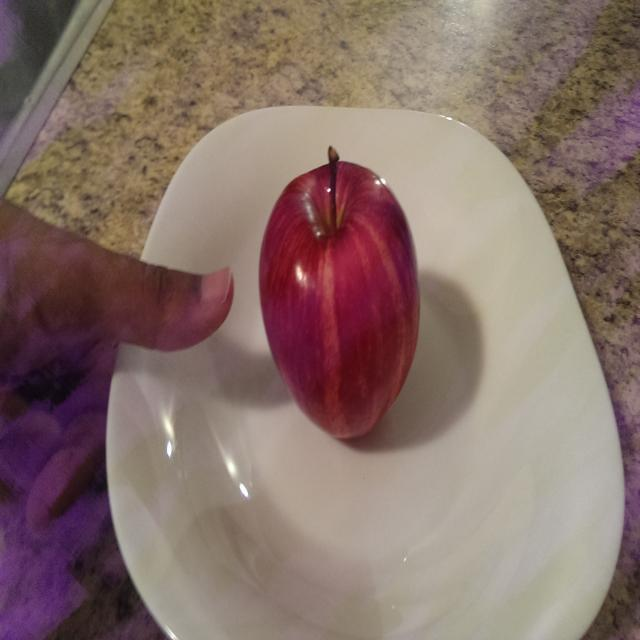Apple: (248, 137, 429, 456)
Finger: (144, 254, 242, 360)
